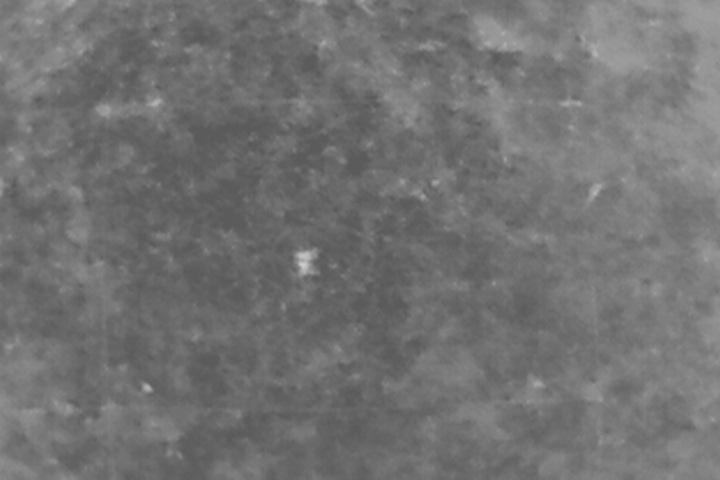landmine: (294, 247, 326, 278)
